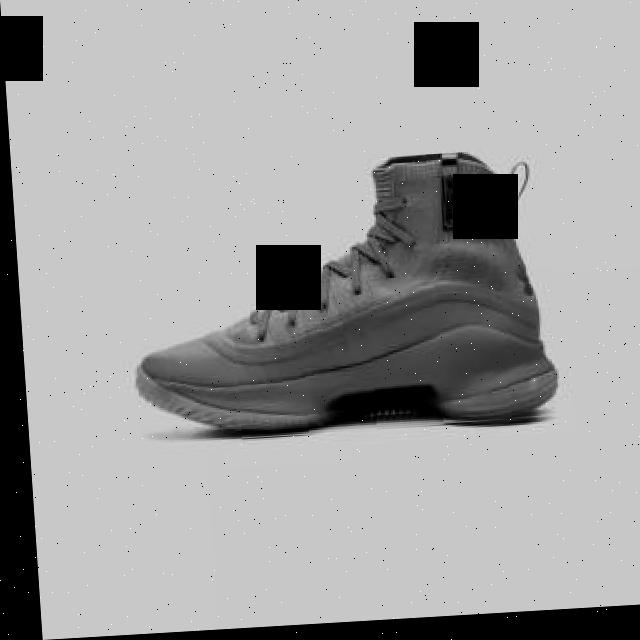shoe: (119, 154, 556, 448)
